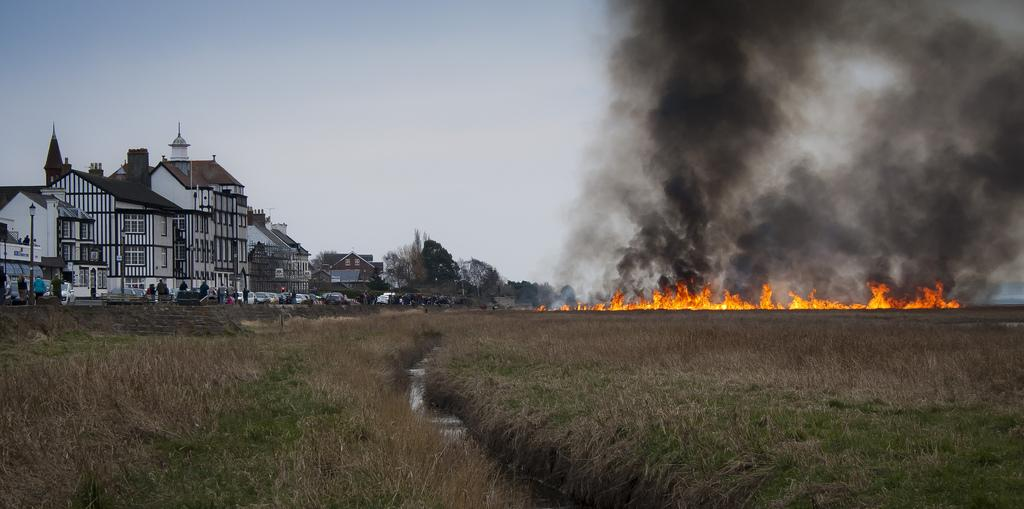fire: (604, 290, 743, 311), (870, 285, 941, 308), (794, 295, 836, 305), (765, 288, 771, 308)
smoke: (670, 23, 772, 161), (923, 95, 1014, 245)
